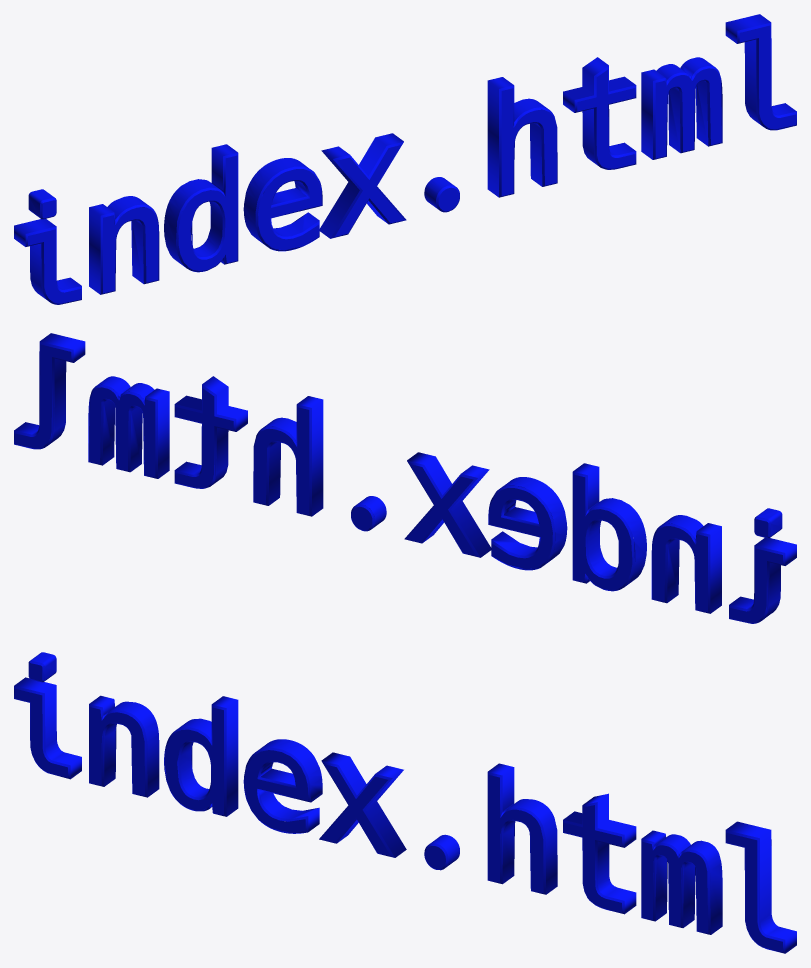
The model's file is entrance_index.glb.
The picture shows the model from 3 angles, top to bottom: view 1: azimuth 30°, elevation 25°; view 2: azimuth 150°, elevation 25°; view 3: azimuth 330°, elevation 25°; orthographic projection.
Parts seen in each view (by area): view 1: Text; view 2: Text; view 3: Text.
Part boxes in pixels (x1,y1,x2,y2): Text: [14, 14, 796, 304]; Text: [14, 333, 796, 623]; Text: [14, 652, 796, 953].
Size of the model in its own units: 2.91 by 0.3997 by 0.088.
